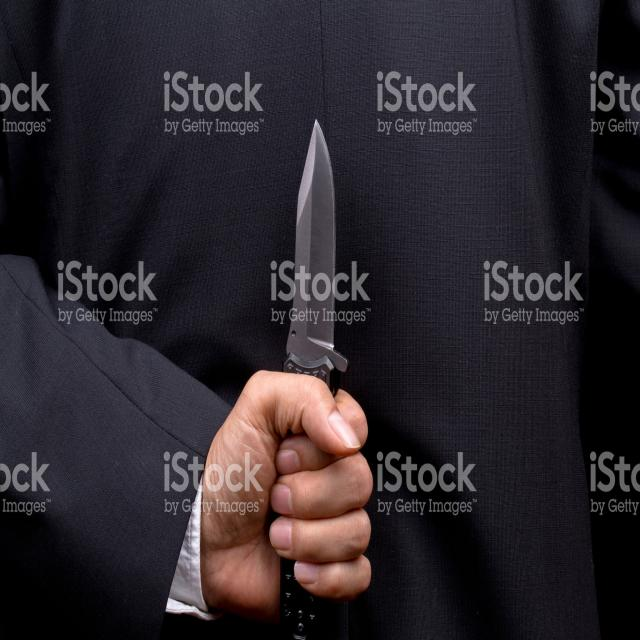knife: (279, 108, 345, 400)
